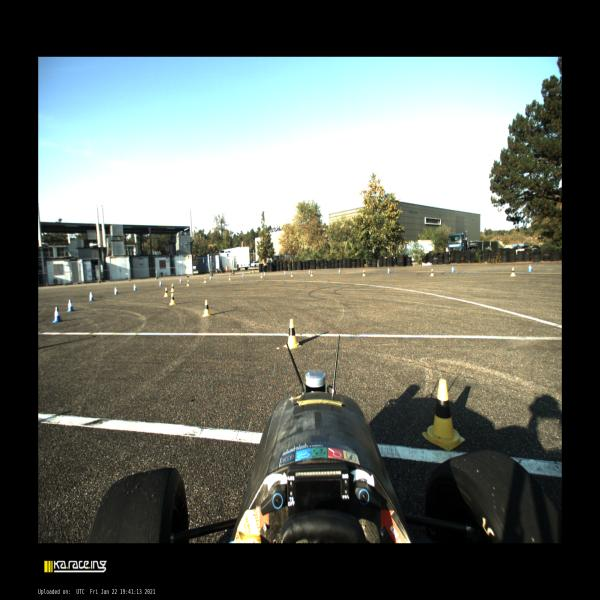blue_cone: (52, 307, 63, 323), (67, 300, 75, 312), (88, 291, 94, 301), (528, 264, 532, 272), (114, 287, 118, 295), (450, 265, 454, 272), (133, 284, 137, 290), (338, 268, 341, 274), (159, 280, 162, 286), (242, 272, 245, 278), (284, 270, 287, 276), (387, 268, 390, 273), (179, 278, 182, 283), (210, 275, 212, 280), (264, 272, 266, 276), (308, 270, 310, 274)
yellow_cone: (422, 379, 465, 451), (284, 319, 300, 349), (202, 300, 210, 316), (169, 292, 176, 304), (510, 267, 516, 277), (164, 288, 168, 297), (170, 284, 174, 292), (430, 268, 434, 276), (186, 280, 190, 286), (362, 270, 366, 276), (228, 275, 231, 281), (310, 271, 313, 277), (290, 271, 293, 277), (260, 272, 263, 278), (204, 277, 206, 283)
